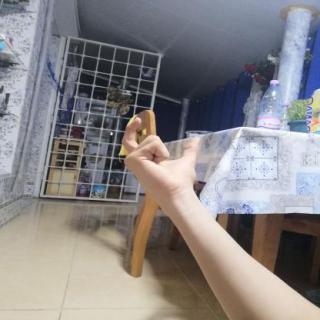NOON: (109, 113, 210, 203)
